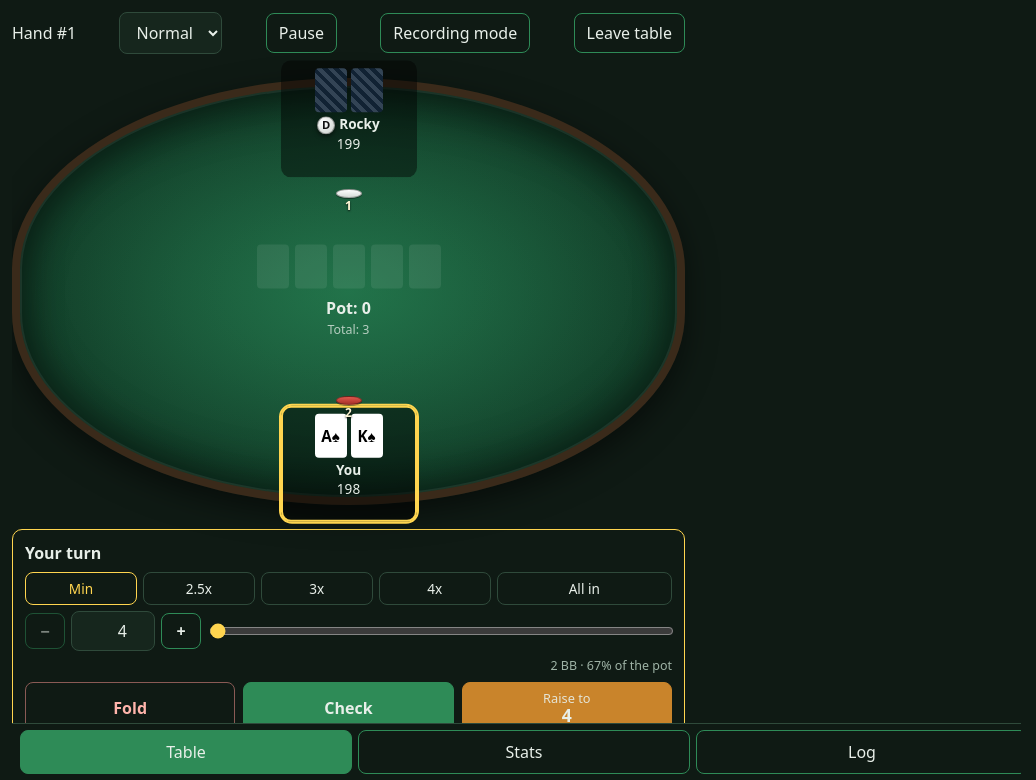
Test: TableView › shows one panel at a time behind a tab bar on a phone
Check: the navigation bar with class "tab-bar" is shown, box [12,723,1035,779]
Check: the element with class "felt" is shown, box [12,78,685,505]
Click the button "Stats". click: (524, 752)
box: [358,730,690,774]
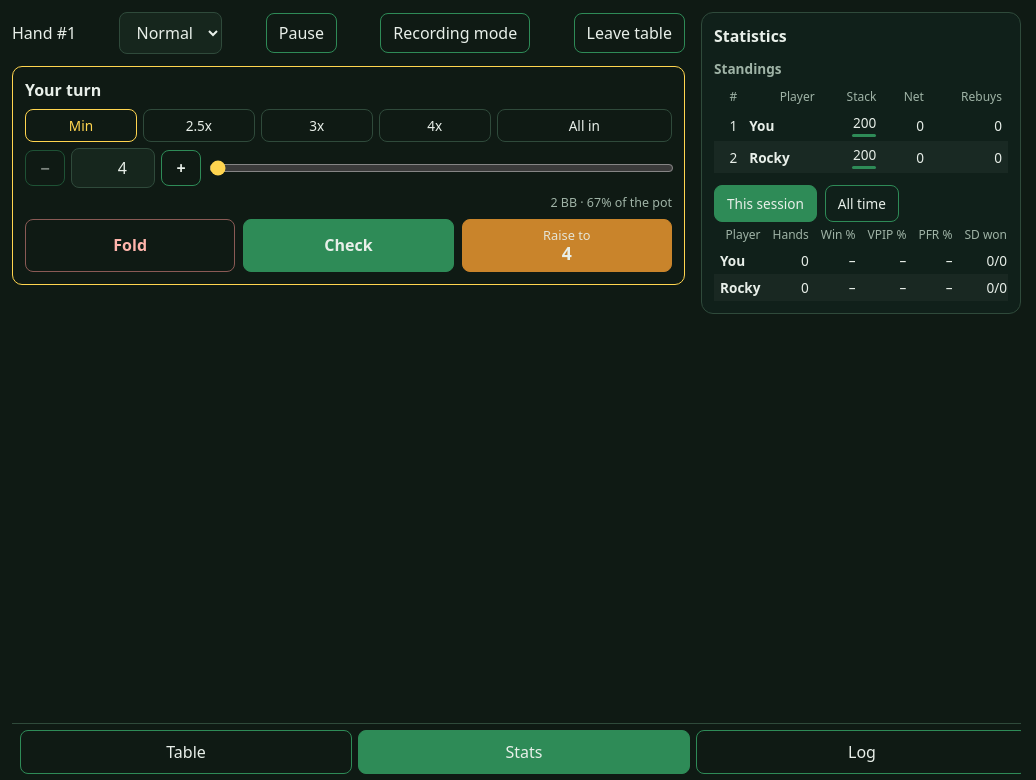
Check: the text "Your turn" is shown, box [25,79,101,101]
Check: the heading "Statistics" is shown, box [714,25,787,47]
Check: the element with class "felt" is gone
Click the button "Log". click: (862, 752)
box: [696,730,1028,774]
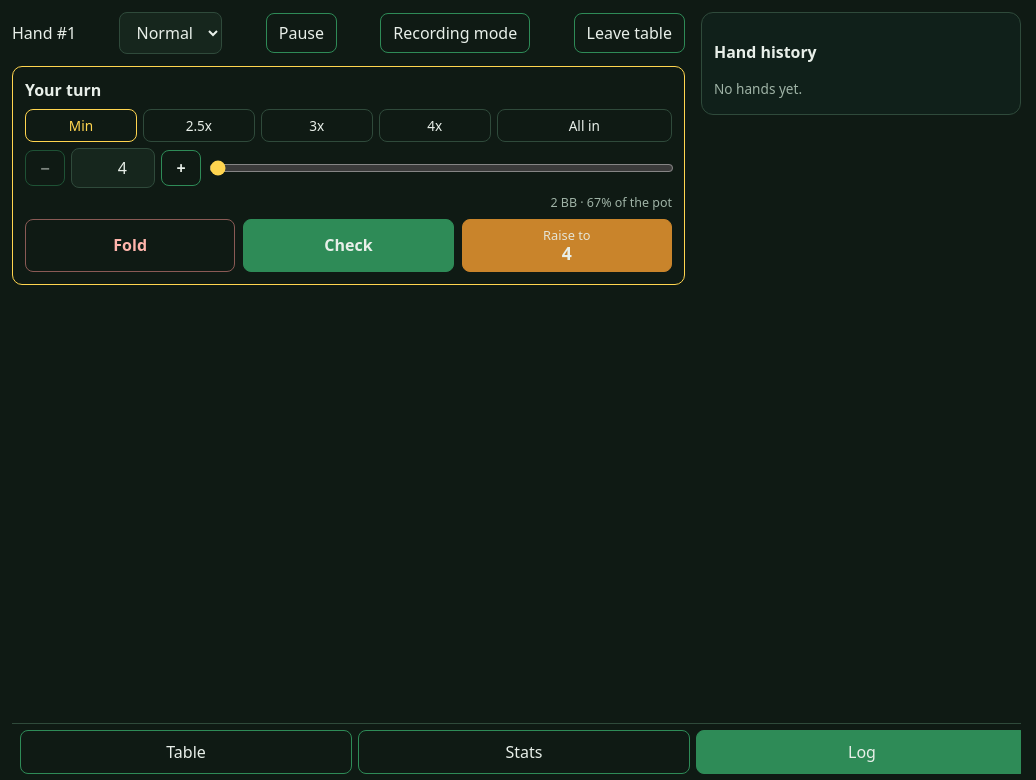
Check: the heading "Hand history" is shown, box [714,41,817,63]
Check: the heading "Statistics" is gone
Click the button "Table". click: (186, 752)
box: [20,730,352,774]
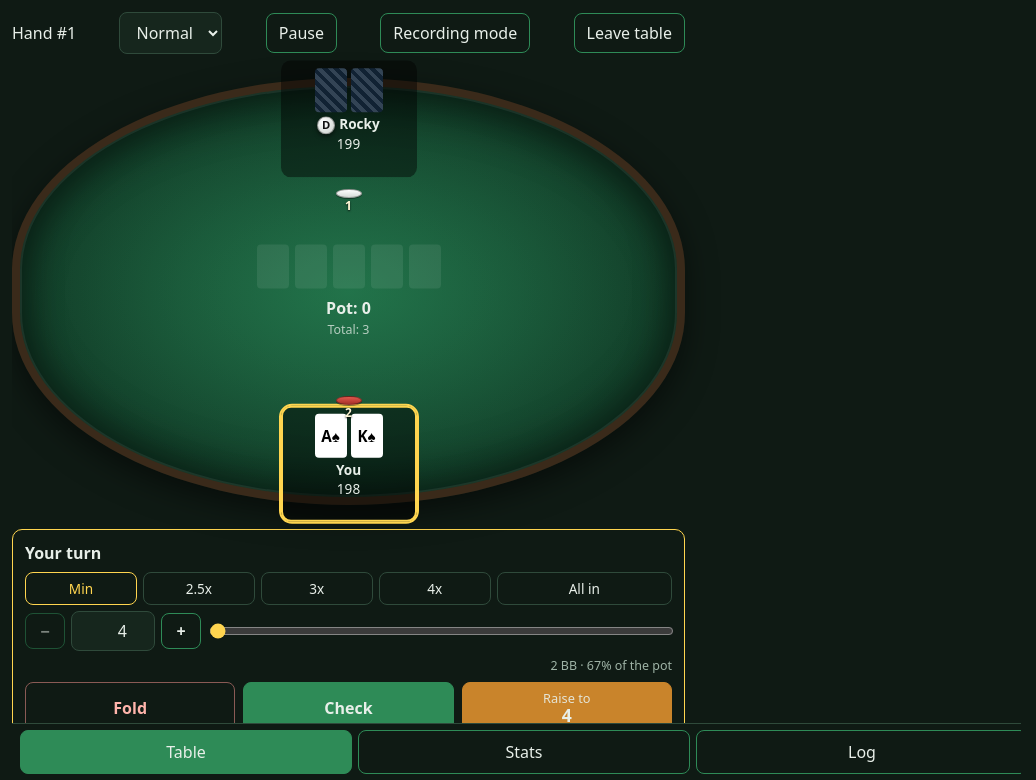
Check: the element with class "felt" is shown, box [12,78,685,505]
